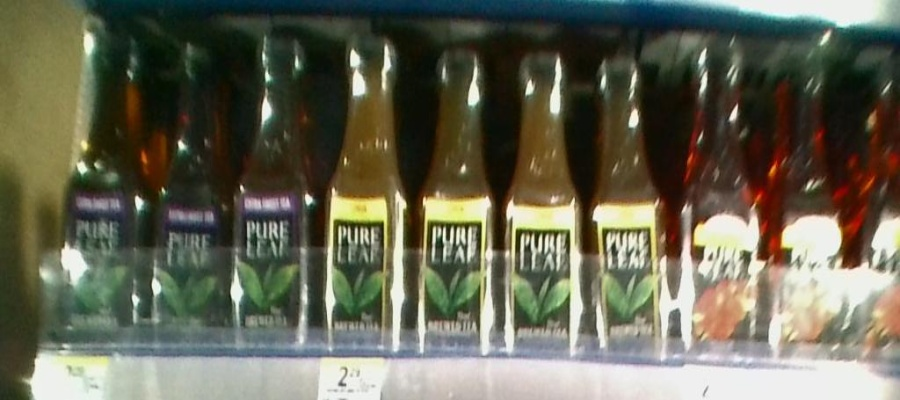bottle: (316, 31, 408, 363), (496, 20, 587, 354), (62, 19, 152, 344), (229, 24, 315, 359), (413, 13, 495, 361), (679, 35, 764, 357), (764, 53, 845, 357), (155, 27, 227, 351), (592, 50, 667, 359), (849, 50, 900, 364)
